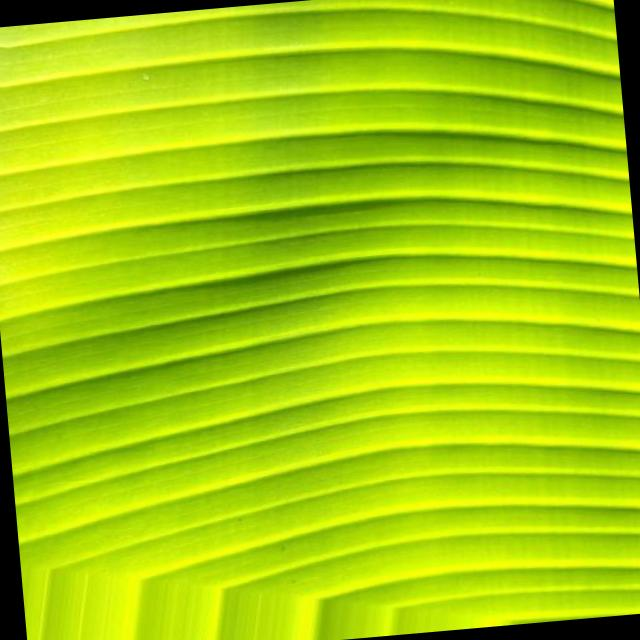Banana_Healthy: (120, 67, 494, 477)
